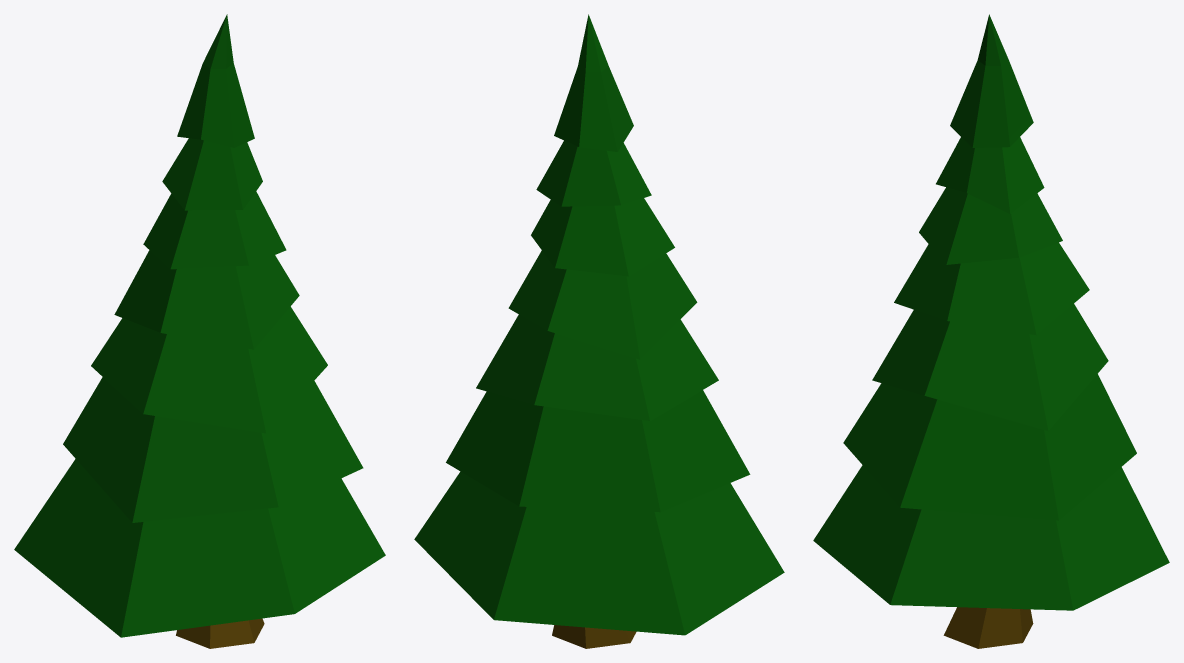
Rendered from pine_3.fbx.
3 views of the same model, side by side, from view 1: azimuth 30°, elevation 25°; view 2: azimuth 150°, elevation 25°; view 3: azimuth 270°, elevation 25° (orthographic).
Parts seen in each view (by area): view 1: Pine_Tree_Big_pCylinder33; view 2: Pine_Tree_Big_pCylinder33; view 3: Pine_Tree_Big_pCylinder33.
Part boxes in pixels (x1,y1,x2,y2): Pine_Tree_Big_pCylinder33: [14, 14, 385, 648]; Pine_Tree_Big_pCylinder33: [414, 14, 784, 648]; Pine_Tree_Big_pCylinder33: [813, 14, 1169, 648].
Bounding box in the file's own units: 224 × 457 × 239.
